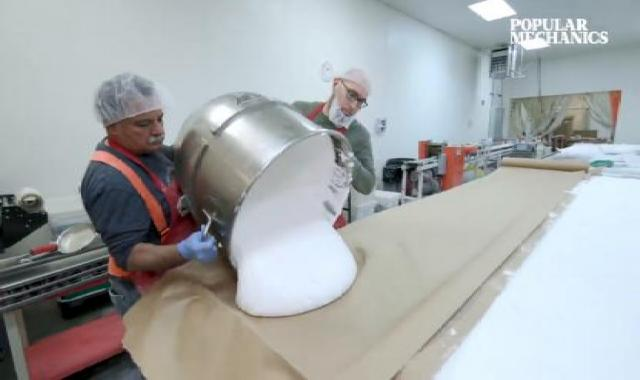hairnet: (90, 71, 164, 125), (339, 63, 389, 105)
